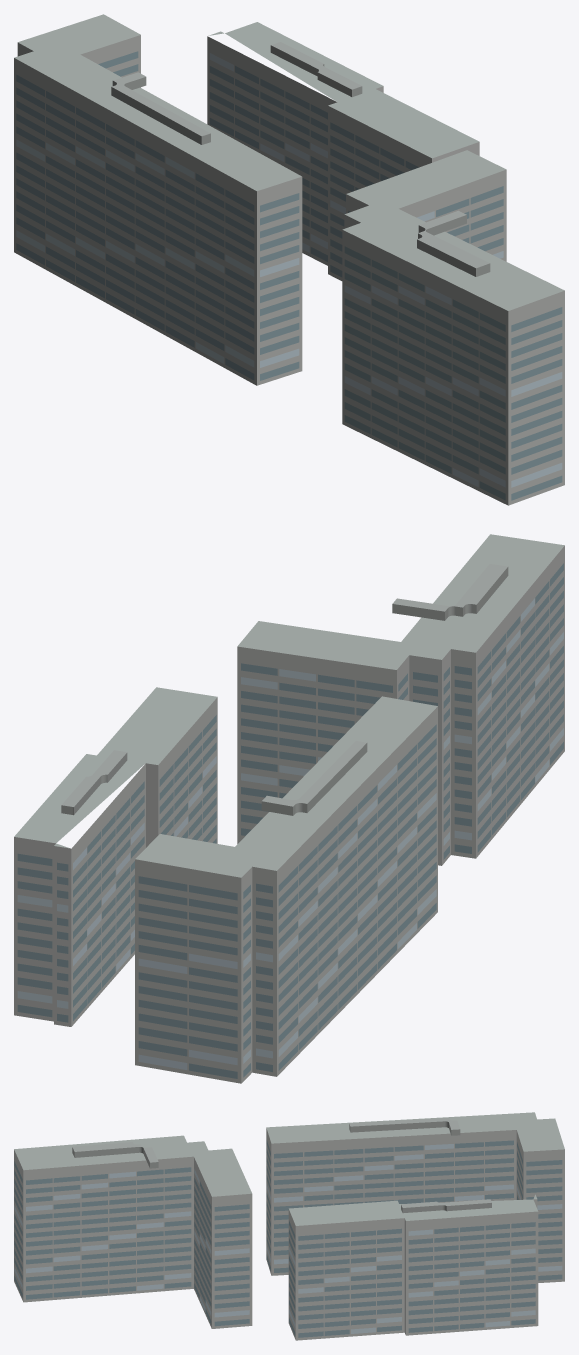
File: apt-a15081606.glb
3 views of the same model, one above another, from view 1: azimuth 30°, elevation 25°; view 2: azimuth 150°, elevation 25°; view 3: azimuth 270°, elevation 25° (orthographic). The views are drawn at different scales.
Visible parts, largest first — view 1: apt-a15081606; view 2: apt-a15081606; view 3: apt-a15081606.
Part boxes in pixels (x1,y1,x2,y2): apt-a15081606: (14, 14, 564, 505); apt-a15081606: (14, 534, 564, 1083); apt-a15081606: (14, 1112, 564, 1340).
Size of the model in its own units: 71.31 by 47.81 by 173.
